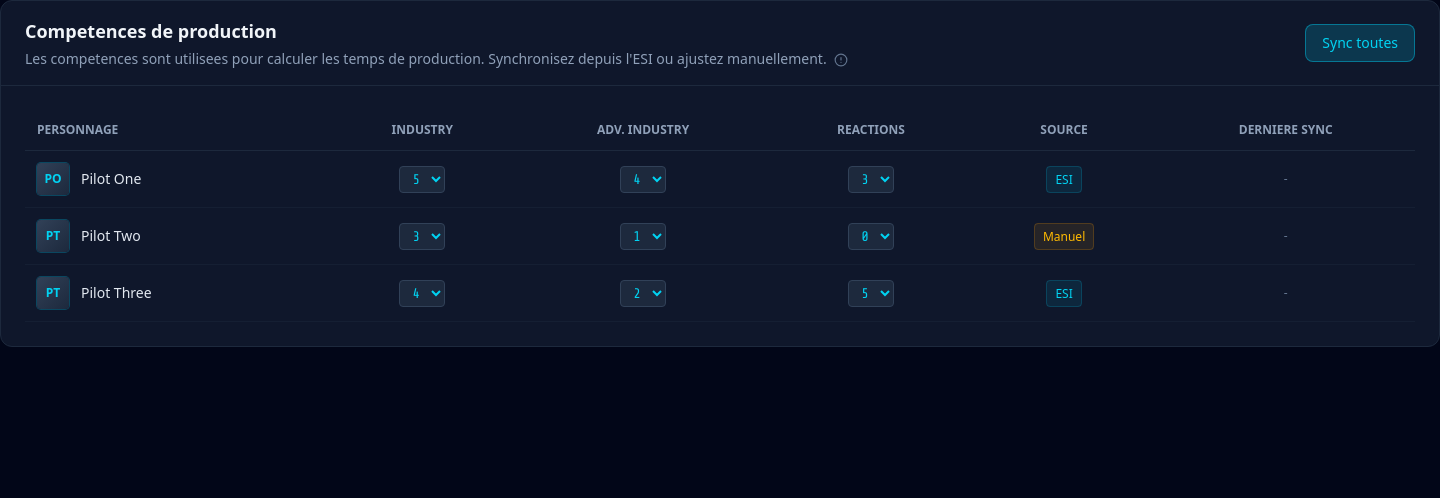
SkillsConfig skill sync failures › names two failed characters with the french plural title
What coordinates should you click on to do the following:
click the button "Sync toutes"
I would click on:
 (1360, 43)
Its box is [1305,24,1415,62].
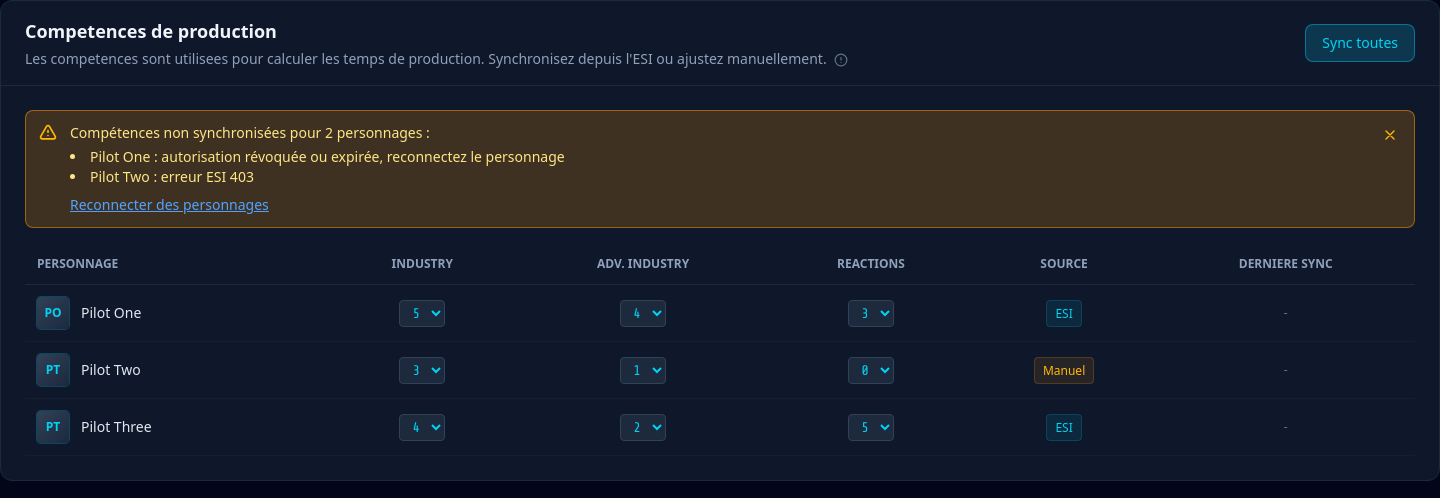
expect the element with test id "skills-sync-failures" shows "Compétences non synchronisées pour 2 personnages :": met, box [70,123,430,142]
